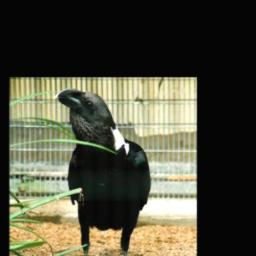Crow: (52, 88, 151, 256)
